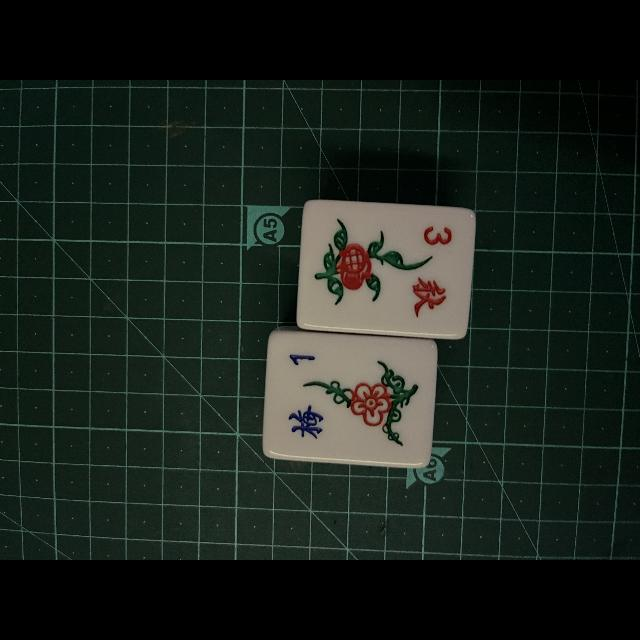f1: (266, 336, 330, 462)
s3: (401, 204, 467, 330)
